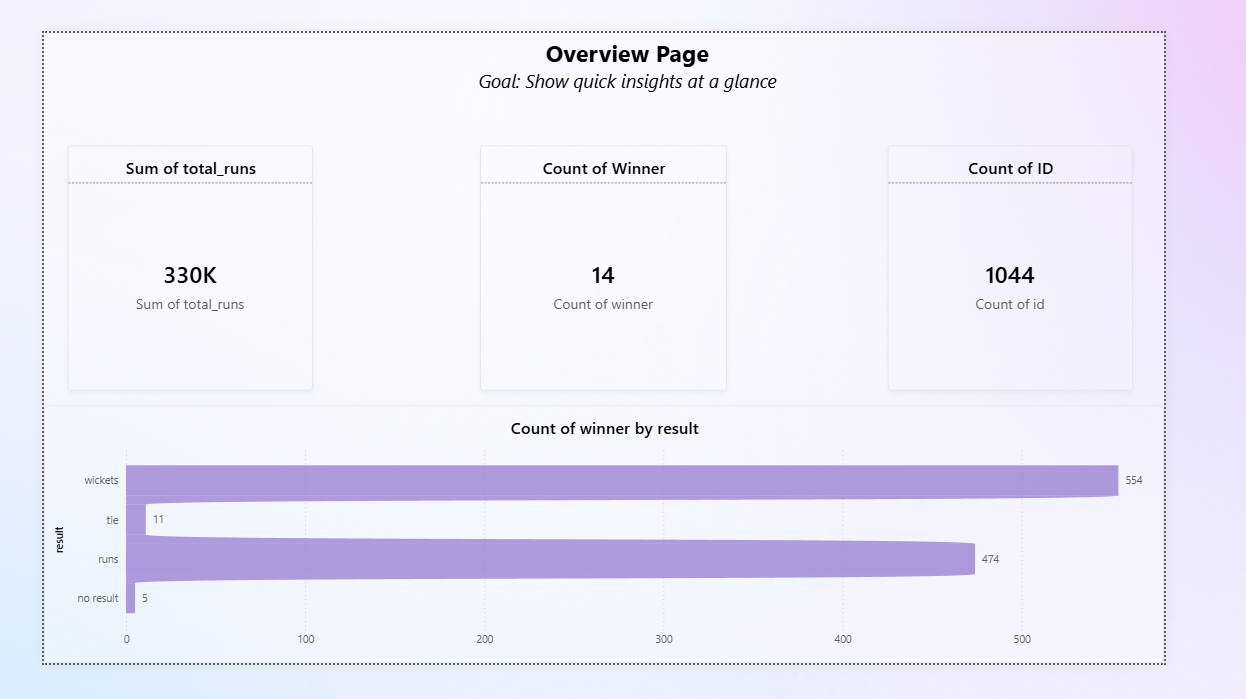

What the dashboard file says about the page in this screenshot:
{"tool":"powerbi","page":{"name":"Page 1","canvas":[1280,720],"ordinal":0},"visuals":[{"type":"card","title":"Count of ID","fields":{"Values":["CountNonNull(ipl_analytics matches.id)"]},"box":[964.3,128.6,280,280],"z":0},{"type":"card","title":"Sum of total_runs","fields":{"Values":["Sum(ipl_analytics batting_stats.total_runs)"]},"box":[27.1,128.6,280,280],"z":1000},{"type":"card","title":"Count of Winner","fields":{"Values":["Count(ipl_analytics matches.winner)"]},"box":[498.6,192.9,281.4,150],"z":2000},{"type":"textbox","box":[228,0,876.4,114],"z":3000},{"type":"barChart","fields":{"Y":["CountNonNull(ipl_analytics matches.winner)"],"Category":["ipl_analytics matches.result"]},"box":[0,425.7,1280,294.3],"z":4000}]}

Visuals, with their boxes in screenshot pixels (x1, y1, x2, y2), scaled from the page's 1280x720 canvas onto the 1246x699 screenshot:
"Count of ID" card: detection(939, 125, 1211, 397)
"Sum of total_runs" card: detection(26, 125, 299, 397)
"Count of Winner" card: detection(485, 187, 759, 333)
textbox: detection(222, 0, 1075, 111)
barChart - CountNonNull(ipl_analytics matches.winner) x ipl_analytics matches.result: detection(0, 413, 1245, 698)
